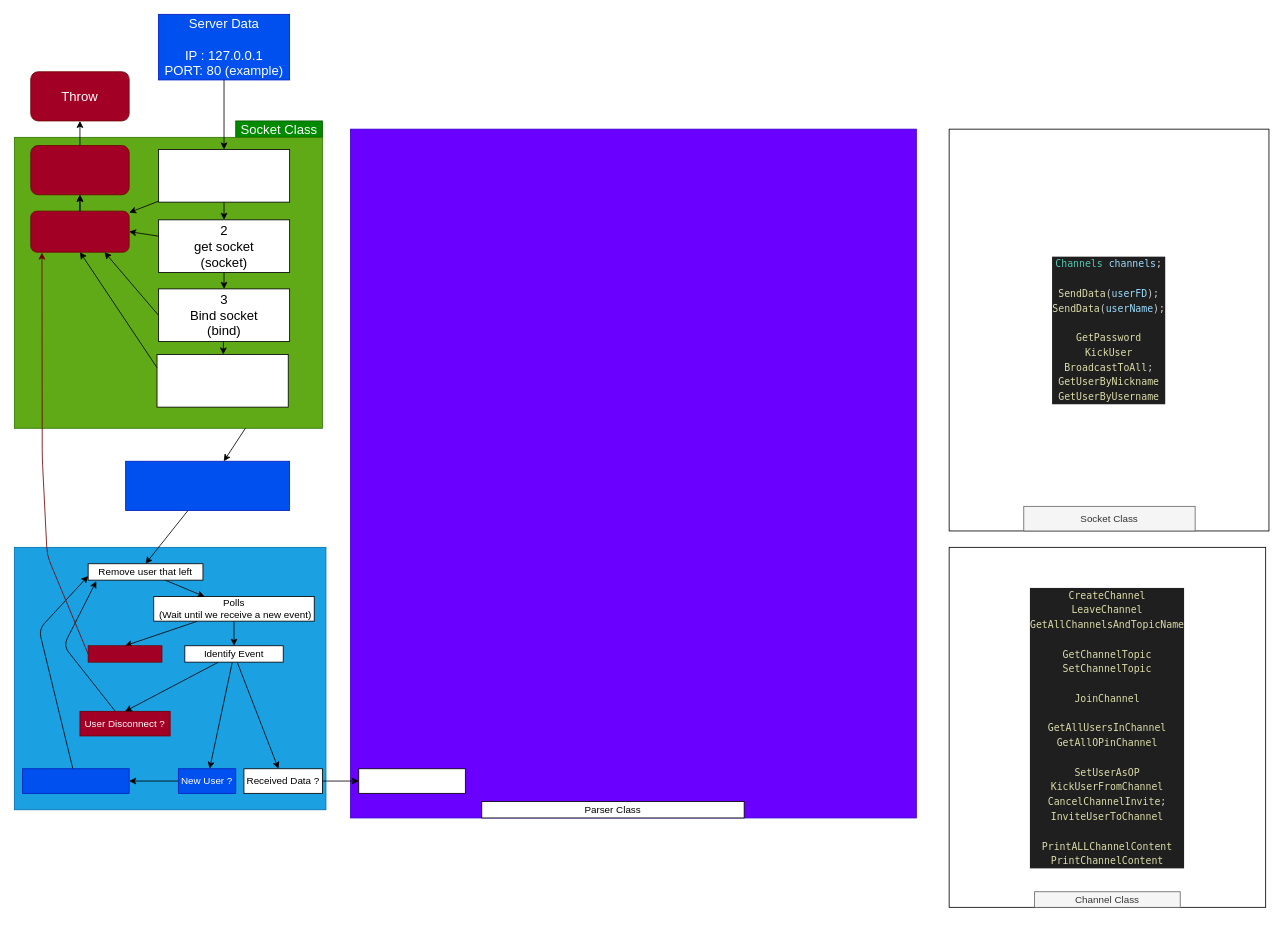
This 1283x946 diagram has some shape labels left out. Each missing label, with the centre of its shape:
1 get address info (getaddrinfo): (224,175)
4 Listen mode (listen): (222,380)
Add to Database: (75,780)
Error ?: (79,231)
Free: (79,170)
Major Crash ?: (124,653)
Parser :: ParseData: (411,780)
Start: (207,485)
